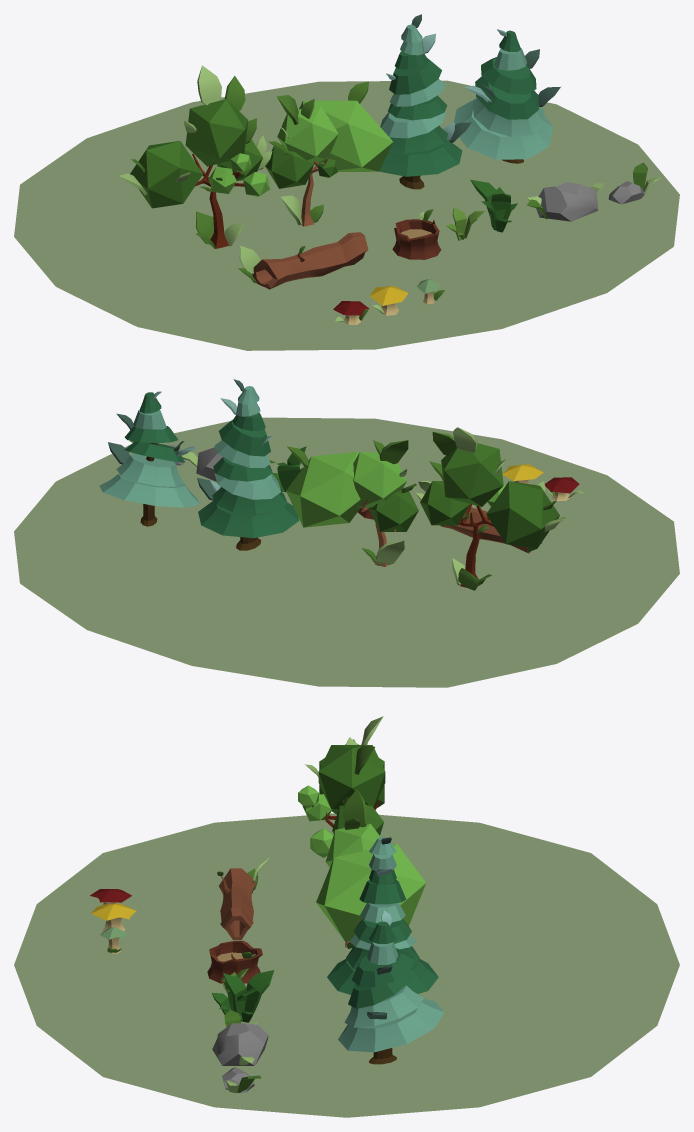
3 views of the same model, one above another, from view 1: azimuth 30°, elevation 25°; view 2: azimuth 150°, elevation 25°; view 3: azimuth 270°, elevation 25° (orthographic). The views are drawn at different scales.
Parts seen in each view (by area): view 1: Background, Oak_Tree, Oak_Tree2, Pine_Tree, Pine_Tree2, Tree_Log, Stone_Big, Tree_Trunk, Grass_Dark, Stone_Small, Mushroom_Yellow, Mushroom_Red (+1 smaller); view 2: Background, Oak_Tree, Oak_Tree2, Pine_Tree, Pine_Tree2, Tree_Log, Stone_Big, Grass_Dark, Mushroom_Red, Mushroom_Yellow; view 3: Background, Pine_Tree2, Oak_Tree2, Oak_Tree, Pine_Tree, Tree_Log, Stone_Big, Tree_Trunk, Grass_Dark, Mushroom_Yellow, Stone_Small.
Boxes of the visible parts, x1,y1,x2,y2 form: Background: (14, 80, 679, 350); Oak_Tree: (119, 65, 272, 248); Oak_Tree2: (265, 81, 392, 226); Pine_Tree: (379, 14, 471, 189); Pine_Tree2: (453, 29, 560, 163); Tree_Log: (238, 232, 368, 289); Stone_Big: (526, 182, 604, 221); Tree_Trunk: (392, 209, 441, 259); Grass_Dark: (470, 179, 517, 232); Stone_Small: (608, 162, 660, 204); Mushroom_Yellow: (370, 286, 408, 315); Mushroom_Red: (333, 301, 369, 324); Background: (14, 417, 679, 687); Oak_Tree: (415, 427, 566, 590); Oak_Tree2: (286, 440, 418, 566); Pine_Tree: (197, 379, 299, 550); Pine_Tree2: (99, 391, 199, 526); Tree_Log: (440, 507, 541, 553); Stone_Big: (182, 447, 275, 481); Grass_Dark: (272, 446, 306, 492); Mushroom_Red: (544, 477, 583, 501); Mushroom_Yellow: (502, 464, 543, 485); Background: (14, 813, 679, 1117); Pine_Tree2: (338, 910, 444, 1064); Oak_Tree2: (316, 789, 425, 948); Oak_Tree: (298, 716, 385, 857); Pine_Tree: (327, 837, 438, 994); Tree_Log: (217, 858, 269, 940); Stone_Big: (212, 1009, 268, 1065); Tree_Trunk: (207, 940, 262, 983); Grass_Dark: (212, 970, 274, 1022); Mushroom_Yellow: (91, 903, 136, 931); Stone_Small: (222, 1067, 261, 1093).
Size of the model in its own units: 27.95 by 8.04 by 25.74.
